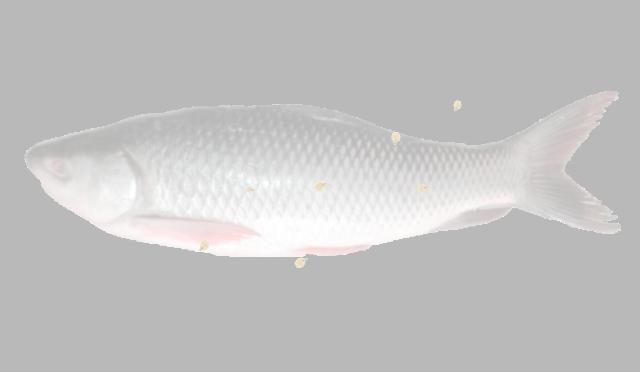Parasitic Disease: (25, 92, 620, 257)
